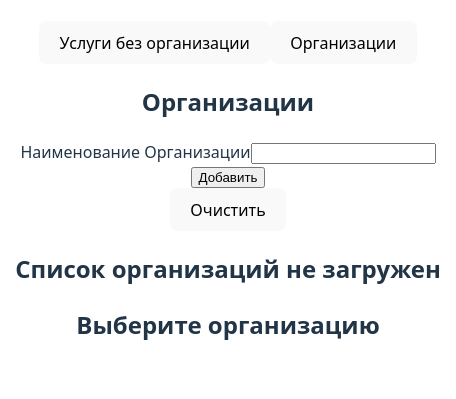
Scenario: app test switch service with or without org › services without organization
The image size is (456, 399).
Click the button with test id "withoutOrg" at (155, 43), box [39, 21, 270, 64]
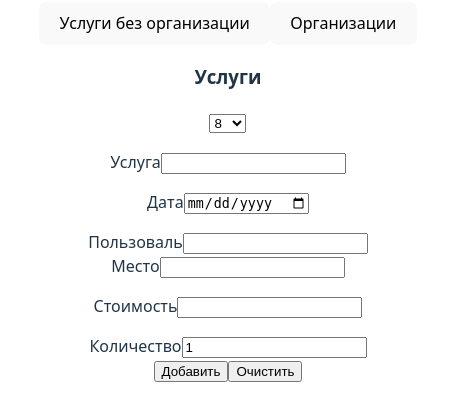
Expected: the heading "Услуги" is shown, [195, 64, 261, 90]
